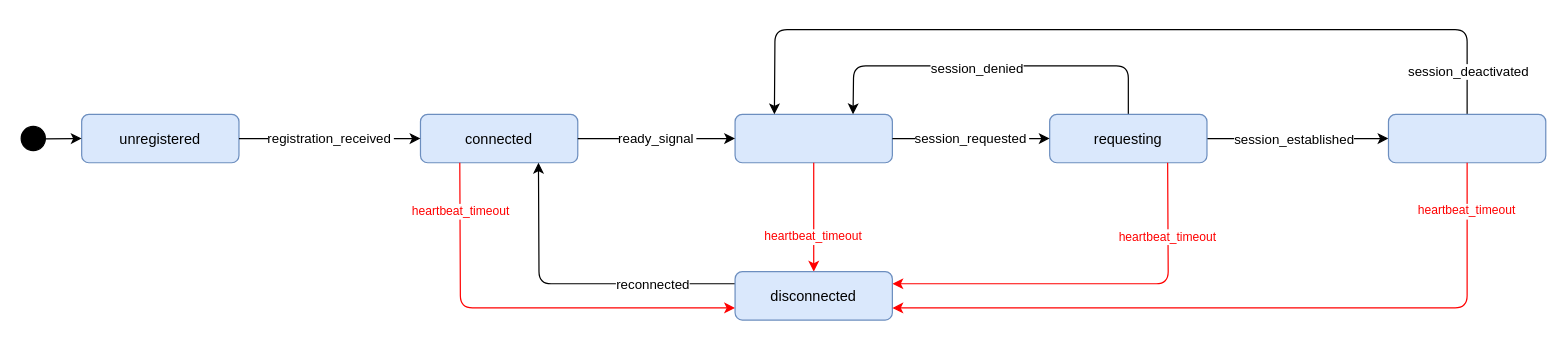
Image size: 1567x341. Some labels were removed from this diagram. The box of each missing label's shape, as (x1, y1, x2, y2) in pixels:
available: (734, 113, 892, 163)
in_session: (1387, 113, 1546, 163)
